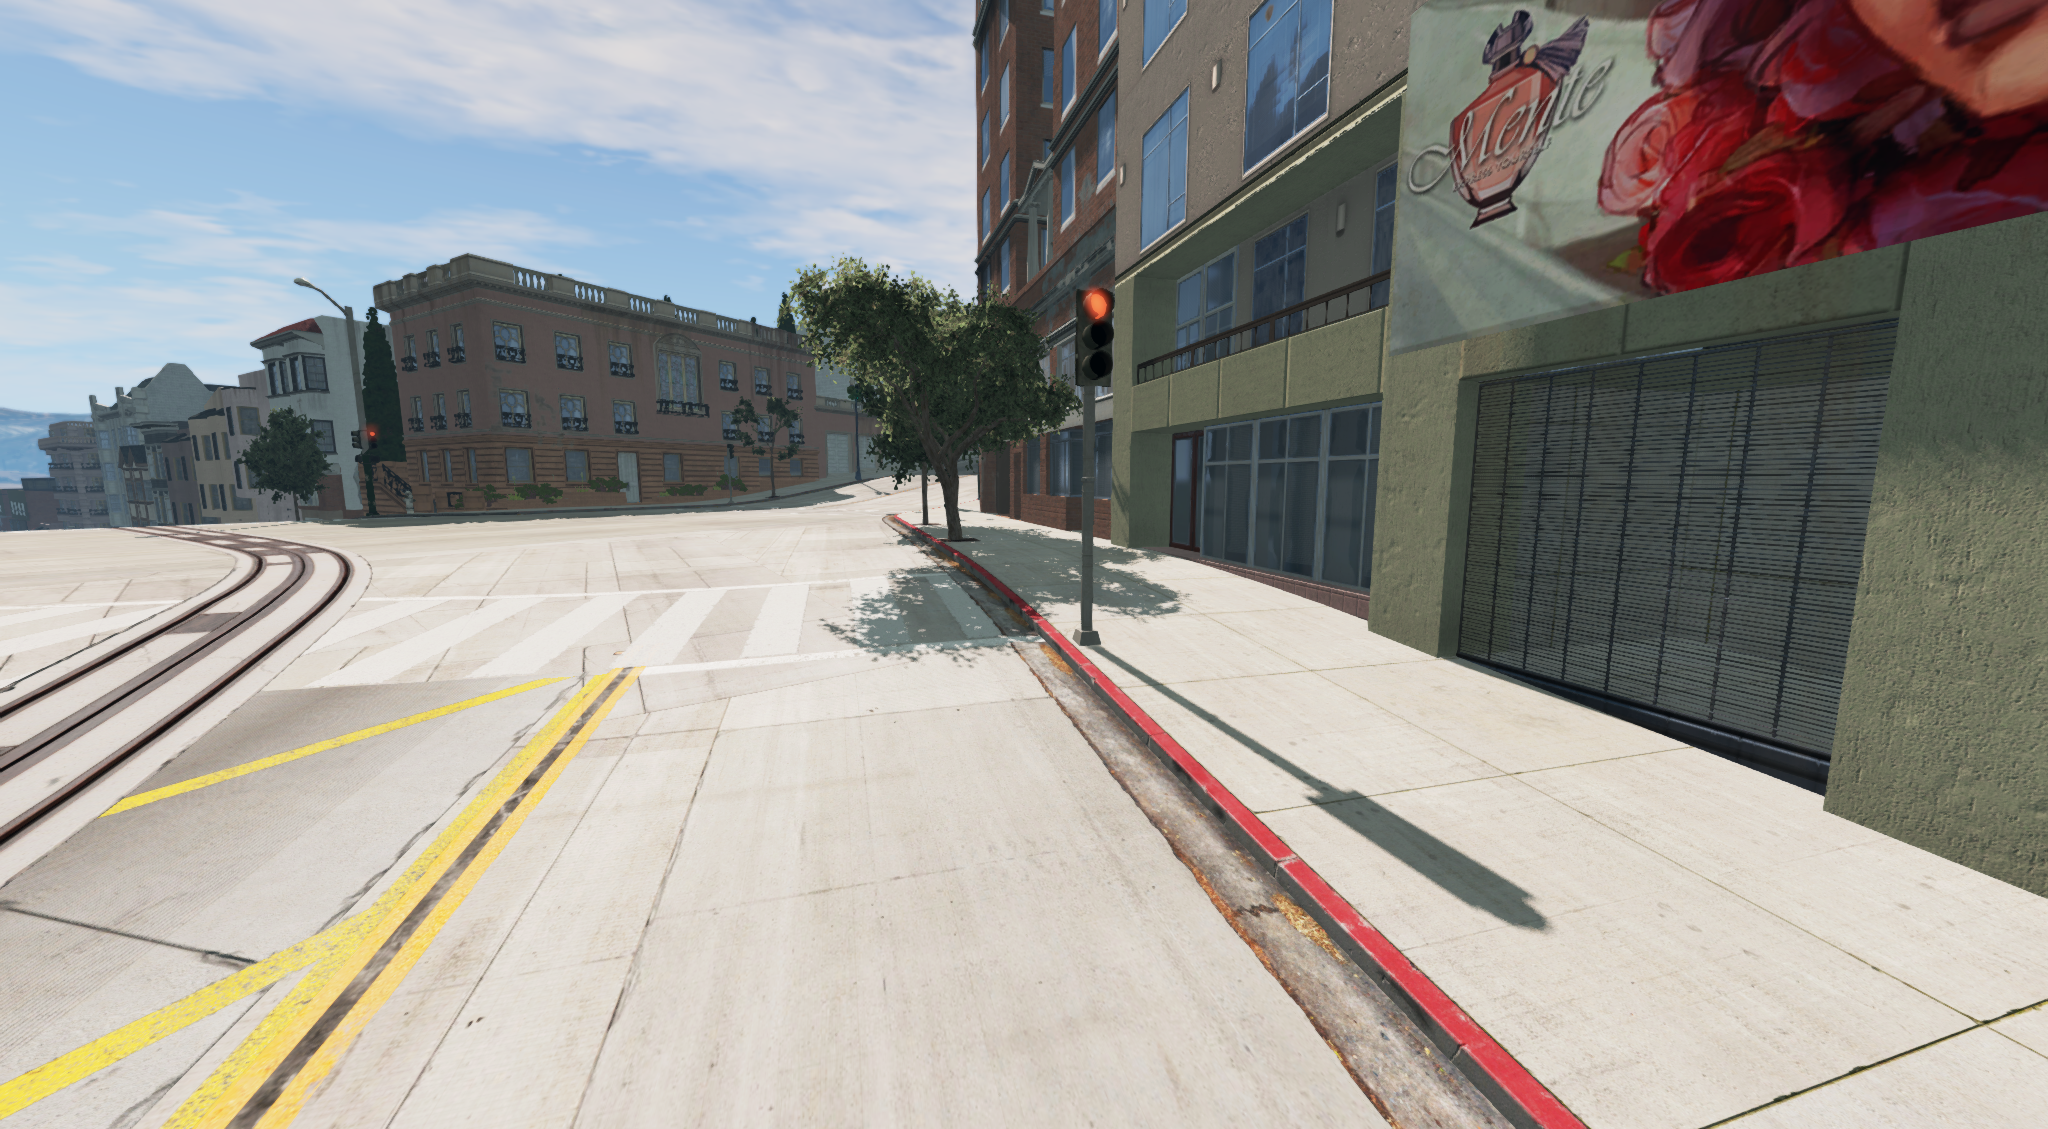red: (1066, 285, 1118, 388)
